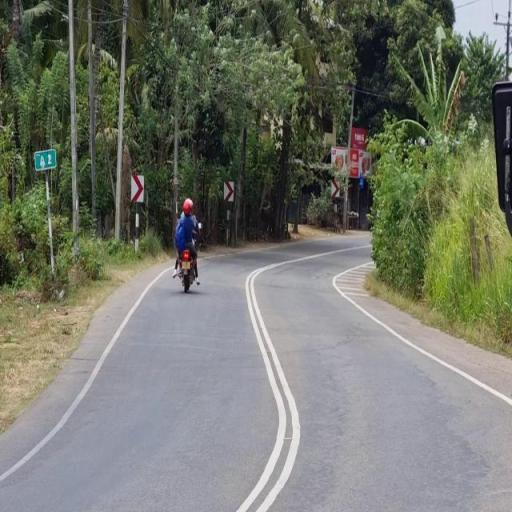double_white_line: (241, 258, 302, 511)
